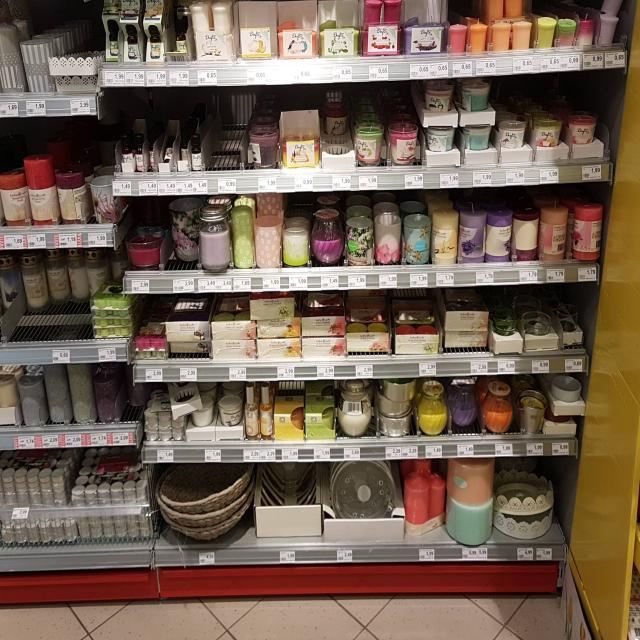empty: (203, 82, 246, 171)
